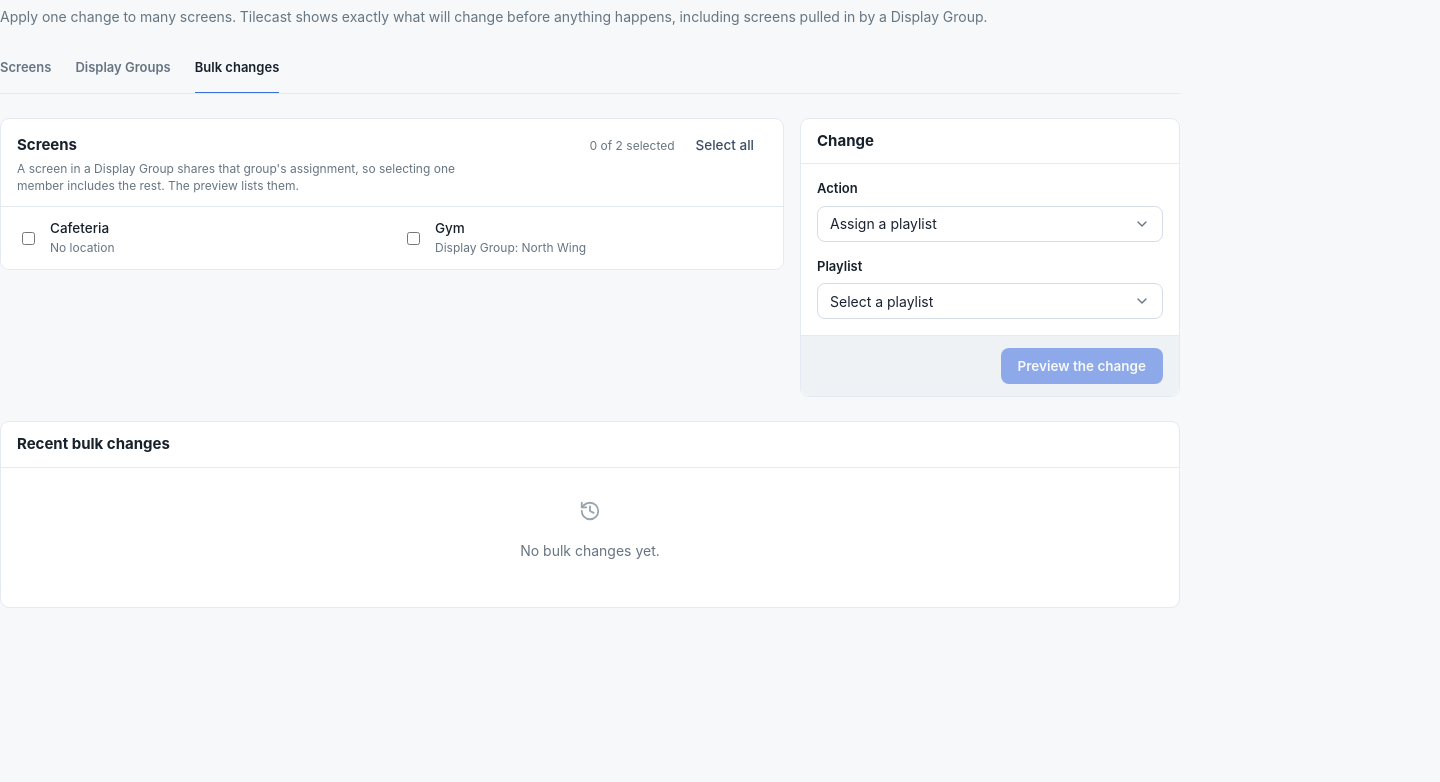
Test: Fleet bulk changes › confirms with the number of screens that actually move
This screenshot has width=1440, height=782.
Click the checkbox labelled "Cafeteria No location" at (28, 238), box [22, 232, 35, 245]
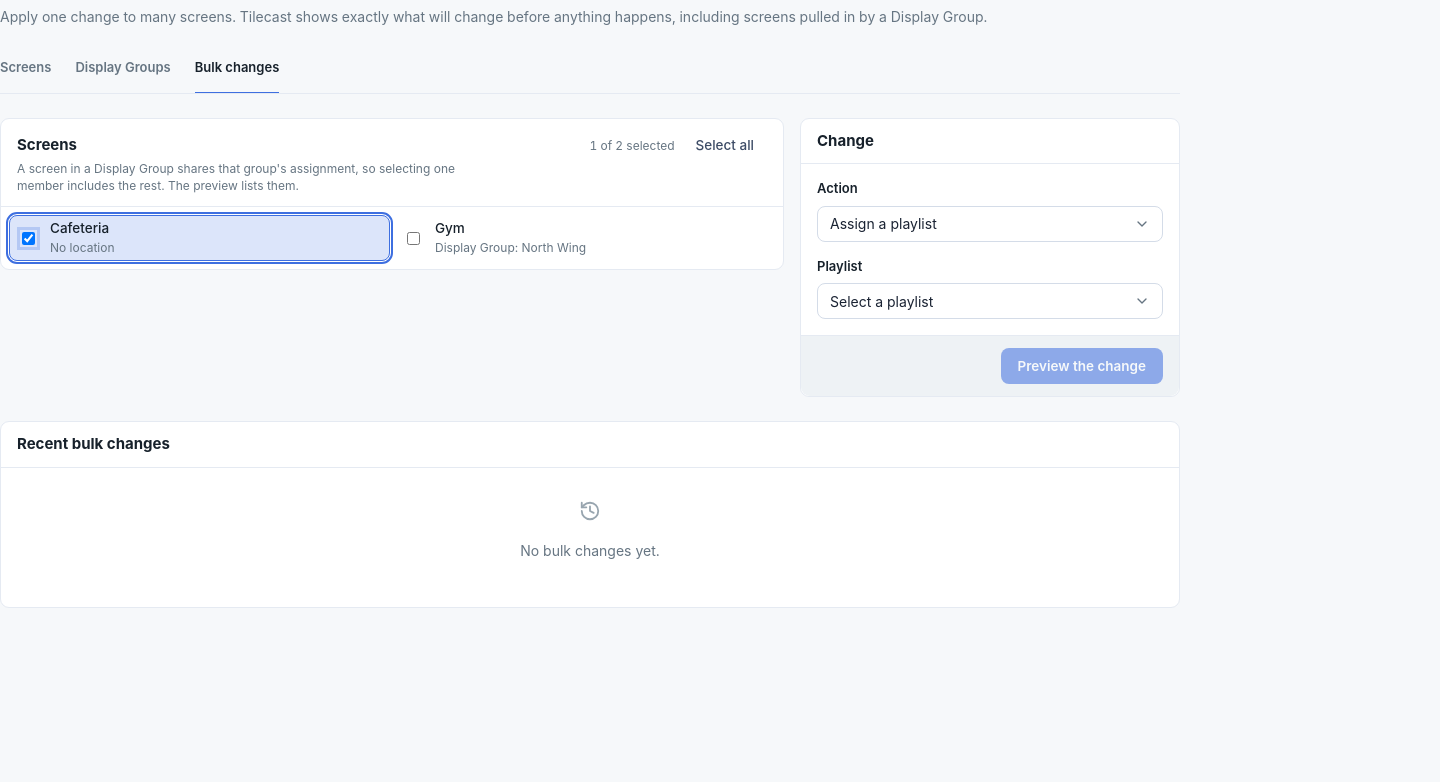
Click the dropdown labelled "playlist" at (882, 301), box [817, 283, 1163, 319]
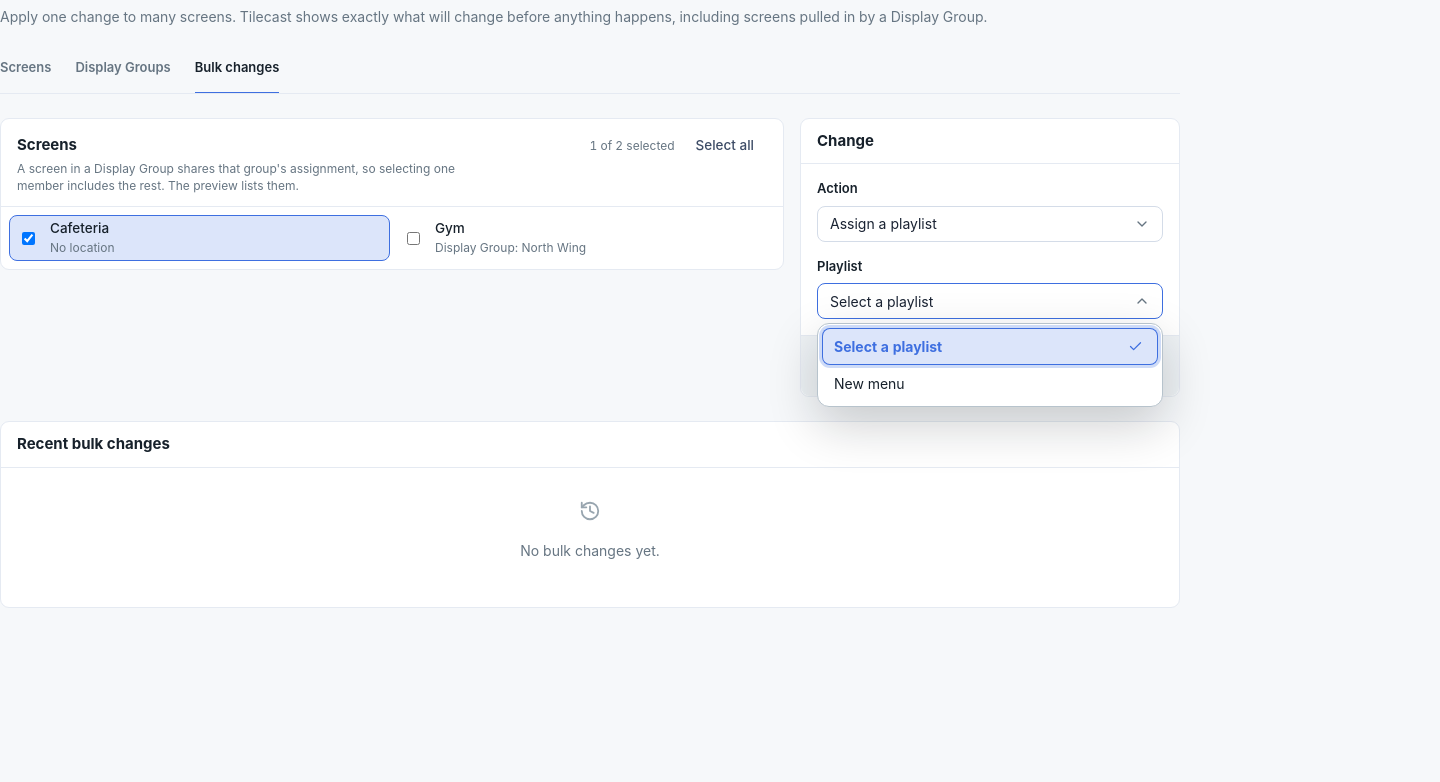
Click the option "New menu" at (869, 384), box [822, 365, 1158, 402]
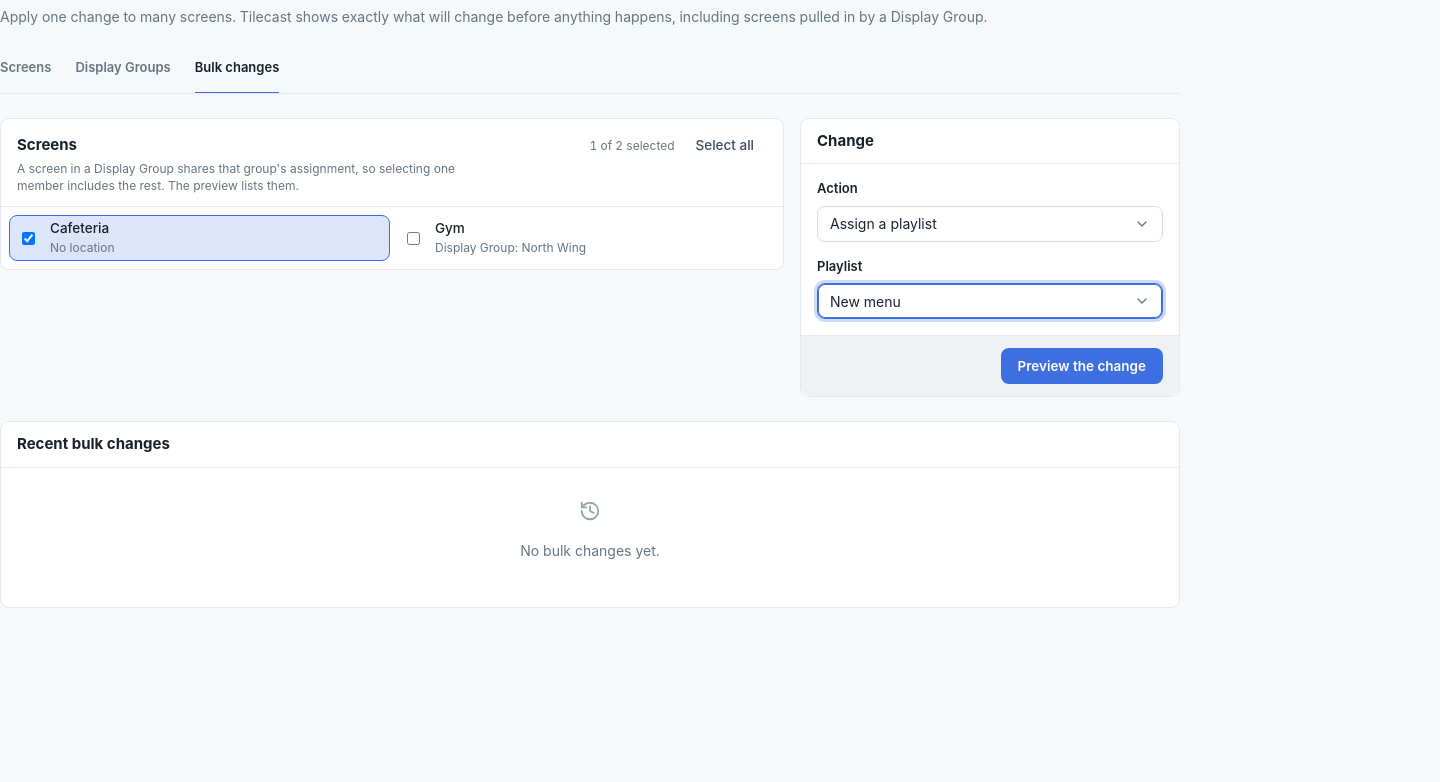
Click the button "Preview the change" at (1082, 366), box [1000, 348, 1163, 384]
(page scrolled)
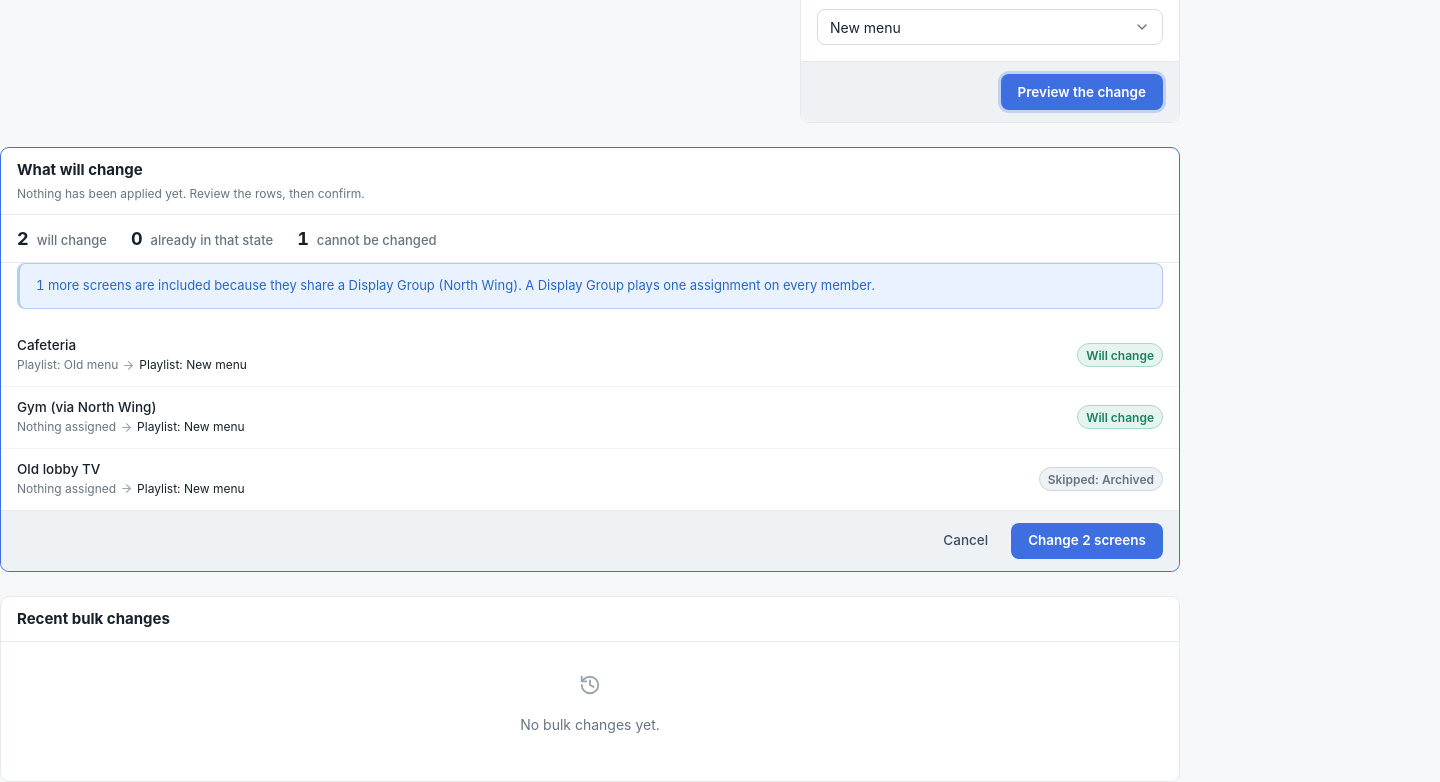
Expected: the button "Change 2 screens" is shown, [1011, 523, 1163, 559]
